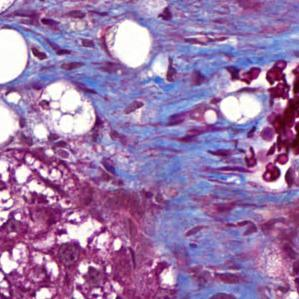steatosis: (1, 28, 28, 87)
